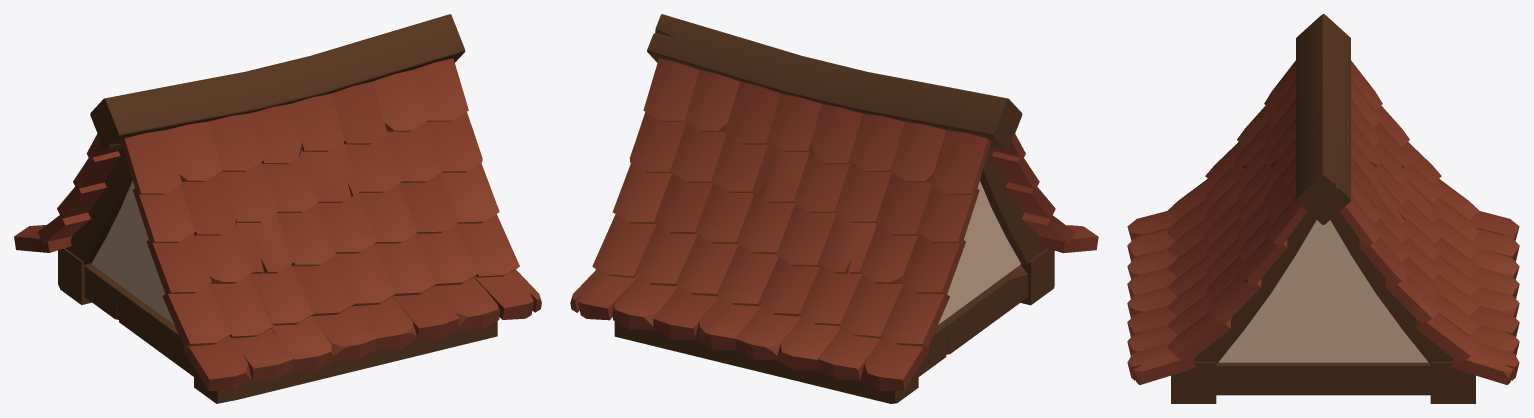
File: HouseRoof_09.glb
3 renders of one model, left to right at view 1: azimuth 30°, elevation 25°; view 2: azimuth 150°, elevation 25°; view 3: azimuth 270°, elevation 25°, orthographic. The views are drawn at different scales.
Parts seen in each view (by area): view 1: HouseRoof_09_LOD0; view 2: HouseRoof_09_LOD0; view 3: HouseRoof_09_LOD0.
Boxes of the visible parts, left/top/right/bottom form: HouseRoof_09_LOD0: left=14, top=14, right=541, bottom=403; HouseRoof_09_LOD0: left=570, top=14, right=1098, bottom=403; HouseRoof_09_LOD0: left=1127, top=14, right=1519, bottom=403.
Size of what is drawn, in the model's own units: 3.54 by 2.49 by 3.64.
1 material, 1 textured.
